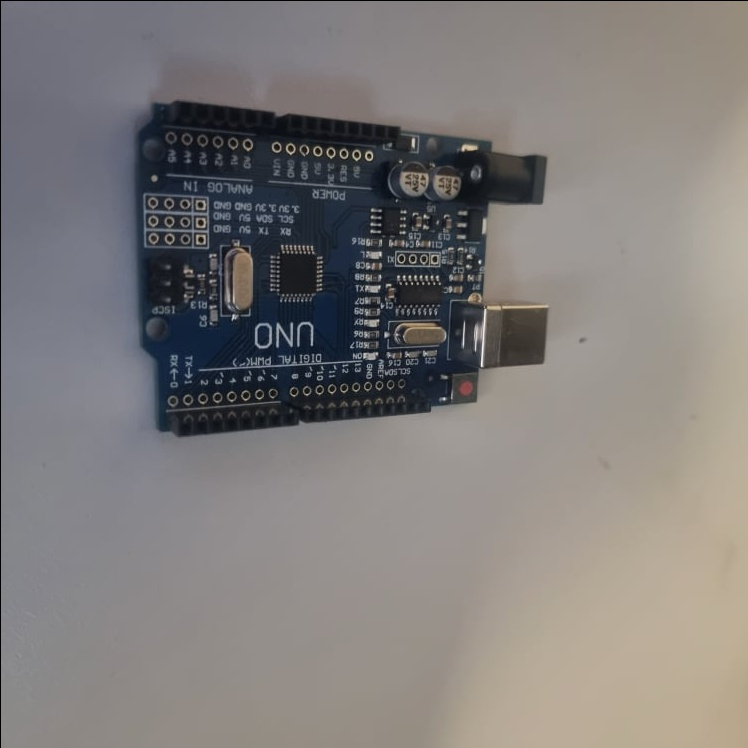UNO R3: (126, 97, 552, 439)
